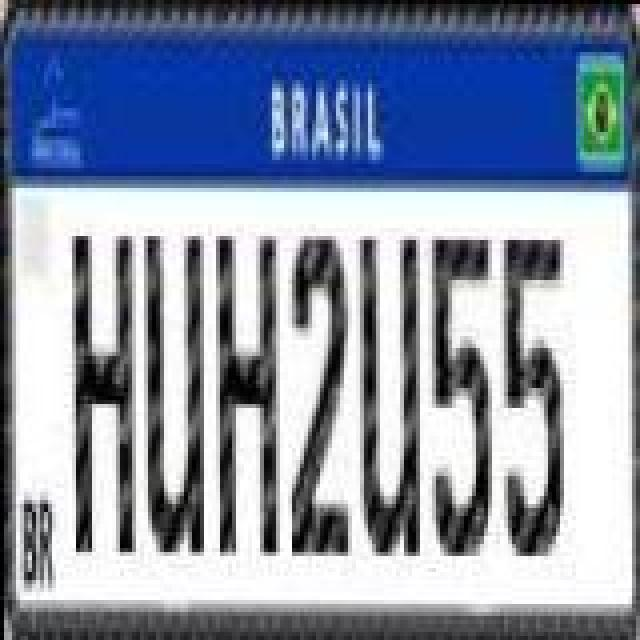2: (286, 226, 350, 562)
5: (428, 232, 488, 556), (500, 238, 560, 554)
H: (74, 230, 138, 554), (218, 232, 282, 556)
U: (142, 232, 206, 556), (360, 232, 420, 556)
